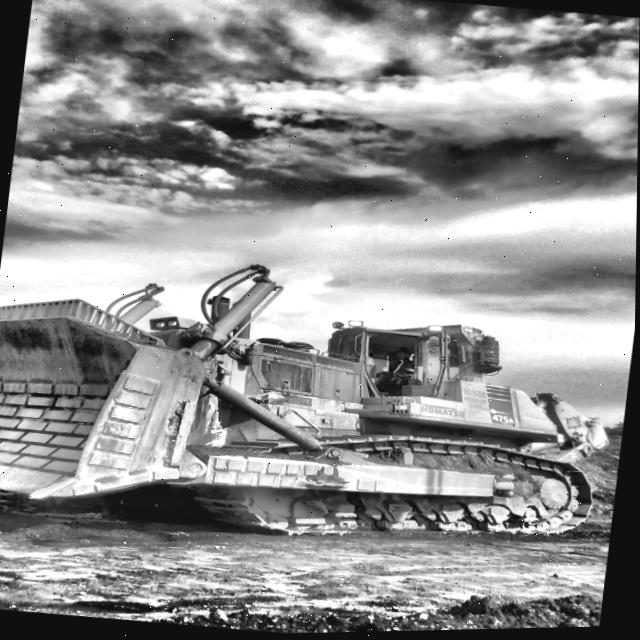buldozerpayloadergrader: (0, 266, 609, 535)
